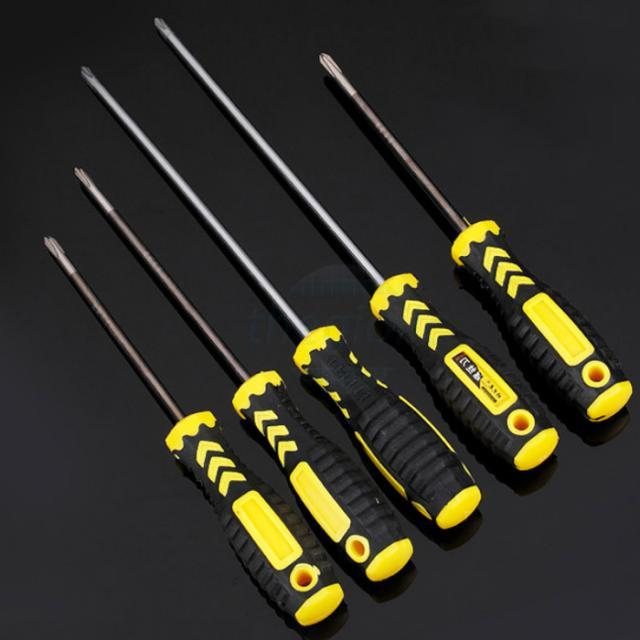screwdriver: (76, 61, 483, 540), (151, 10, 564, 478), (71, 163, 416, 591), (41, 233, 344, 636), (320, 48, 634, 424)
